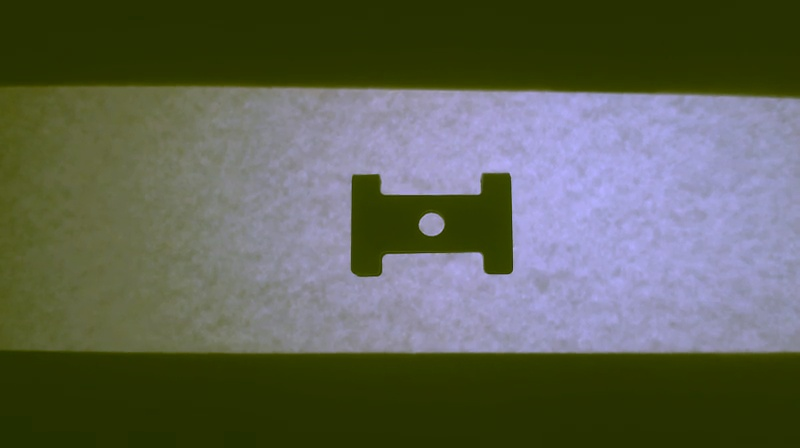O002: (346, 170, 519, 279)
